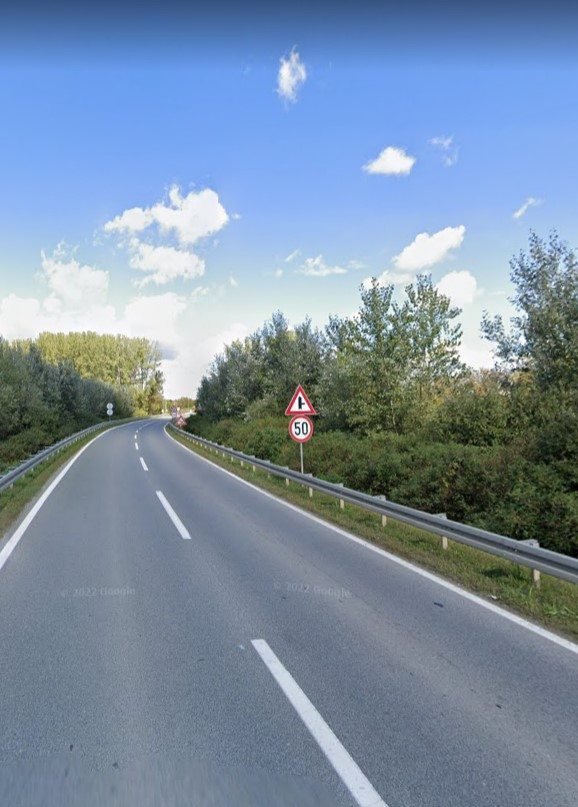Ograničenje brzine 50: (289, 415, 313, 442)
